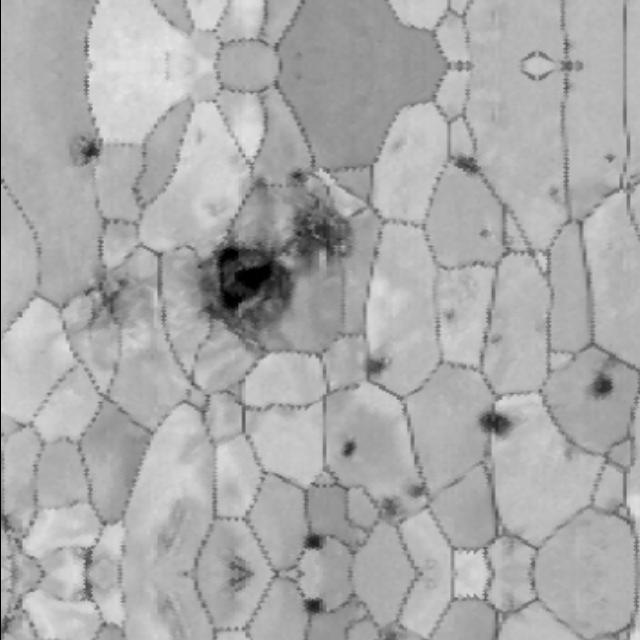good_void: (249, 143, 375, 284), (185, 228, 312, 348), (72, 250, 148, 348), (577, 362, 622, 405), (438, 148, 484, 184), (72, 131, 112, 168), (360, 346, 397, 383), (475, 411, 514, 437), (498, 525, 523, 558), (498, 592, 523, 625), (556, 441, 583, 470), (338, 439, 357, 468), (469, 225, 492, 248), (436, 306, 460, 328), (406, 479, 427, 502), (378, 498, 399, 521), (230, 557, 253, 575), (230, 575, 253, 593), (597, 152, 617, 172), (545, 183, 563, 205), (490, 330, 509, 349), (311, 535, 328, 550), (311, 600, 328, 615), (378, 630, 399, 640)
